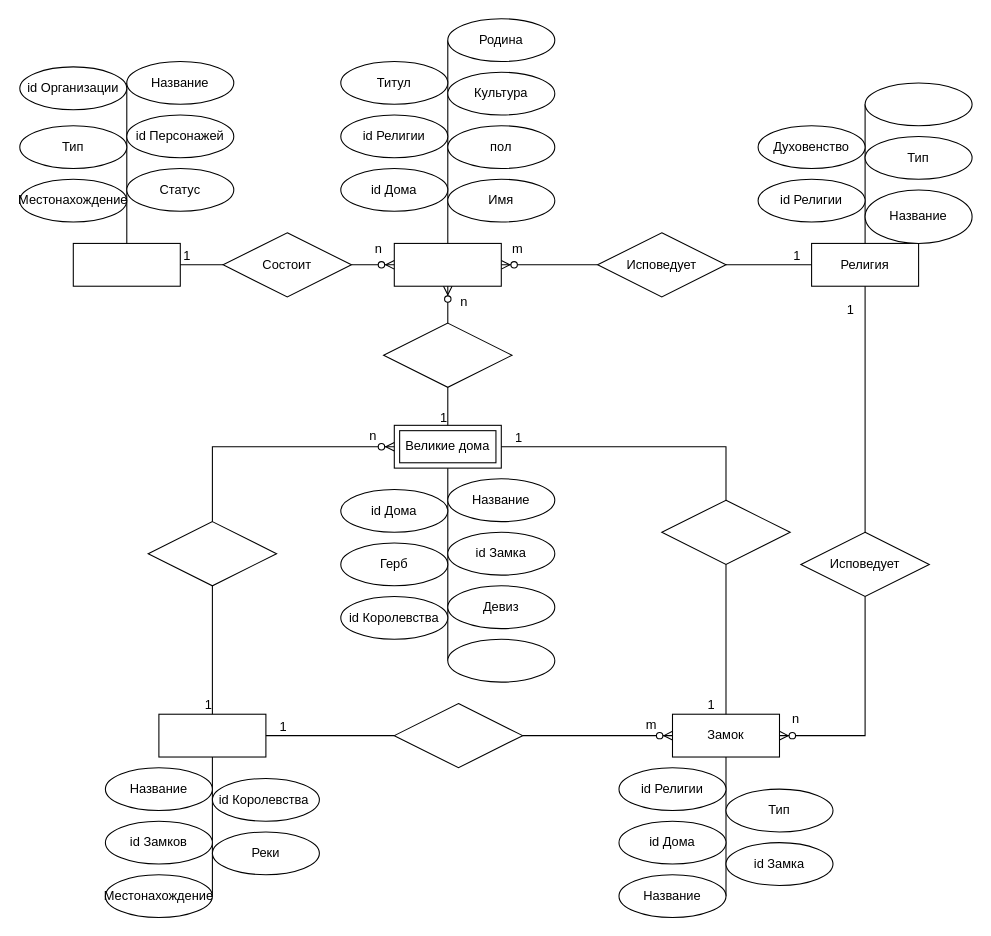
Image size: 991x936. Some labels were removed from this diagram. Here are the shapes that lost their labels. From the top down, the centre of each, then its label:
point (918, 104): Распространение
point (126, 264): Организации
point (447, 264): Персонажи
point (447, 354): Принадлежит
point (725, 531): Управляет
point (212, 553): Живет
point (501, 660): id Персонажа
point (212, 735): Королевства
point (458, 735): Относится
